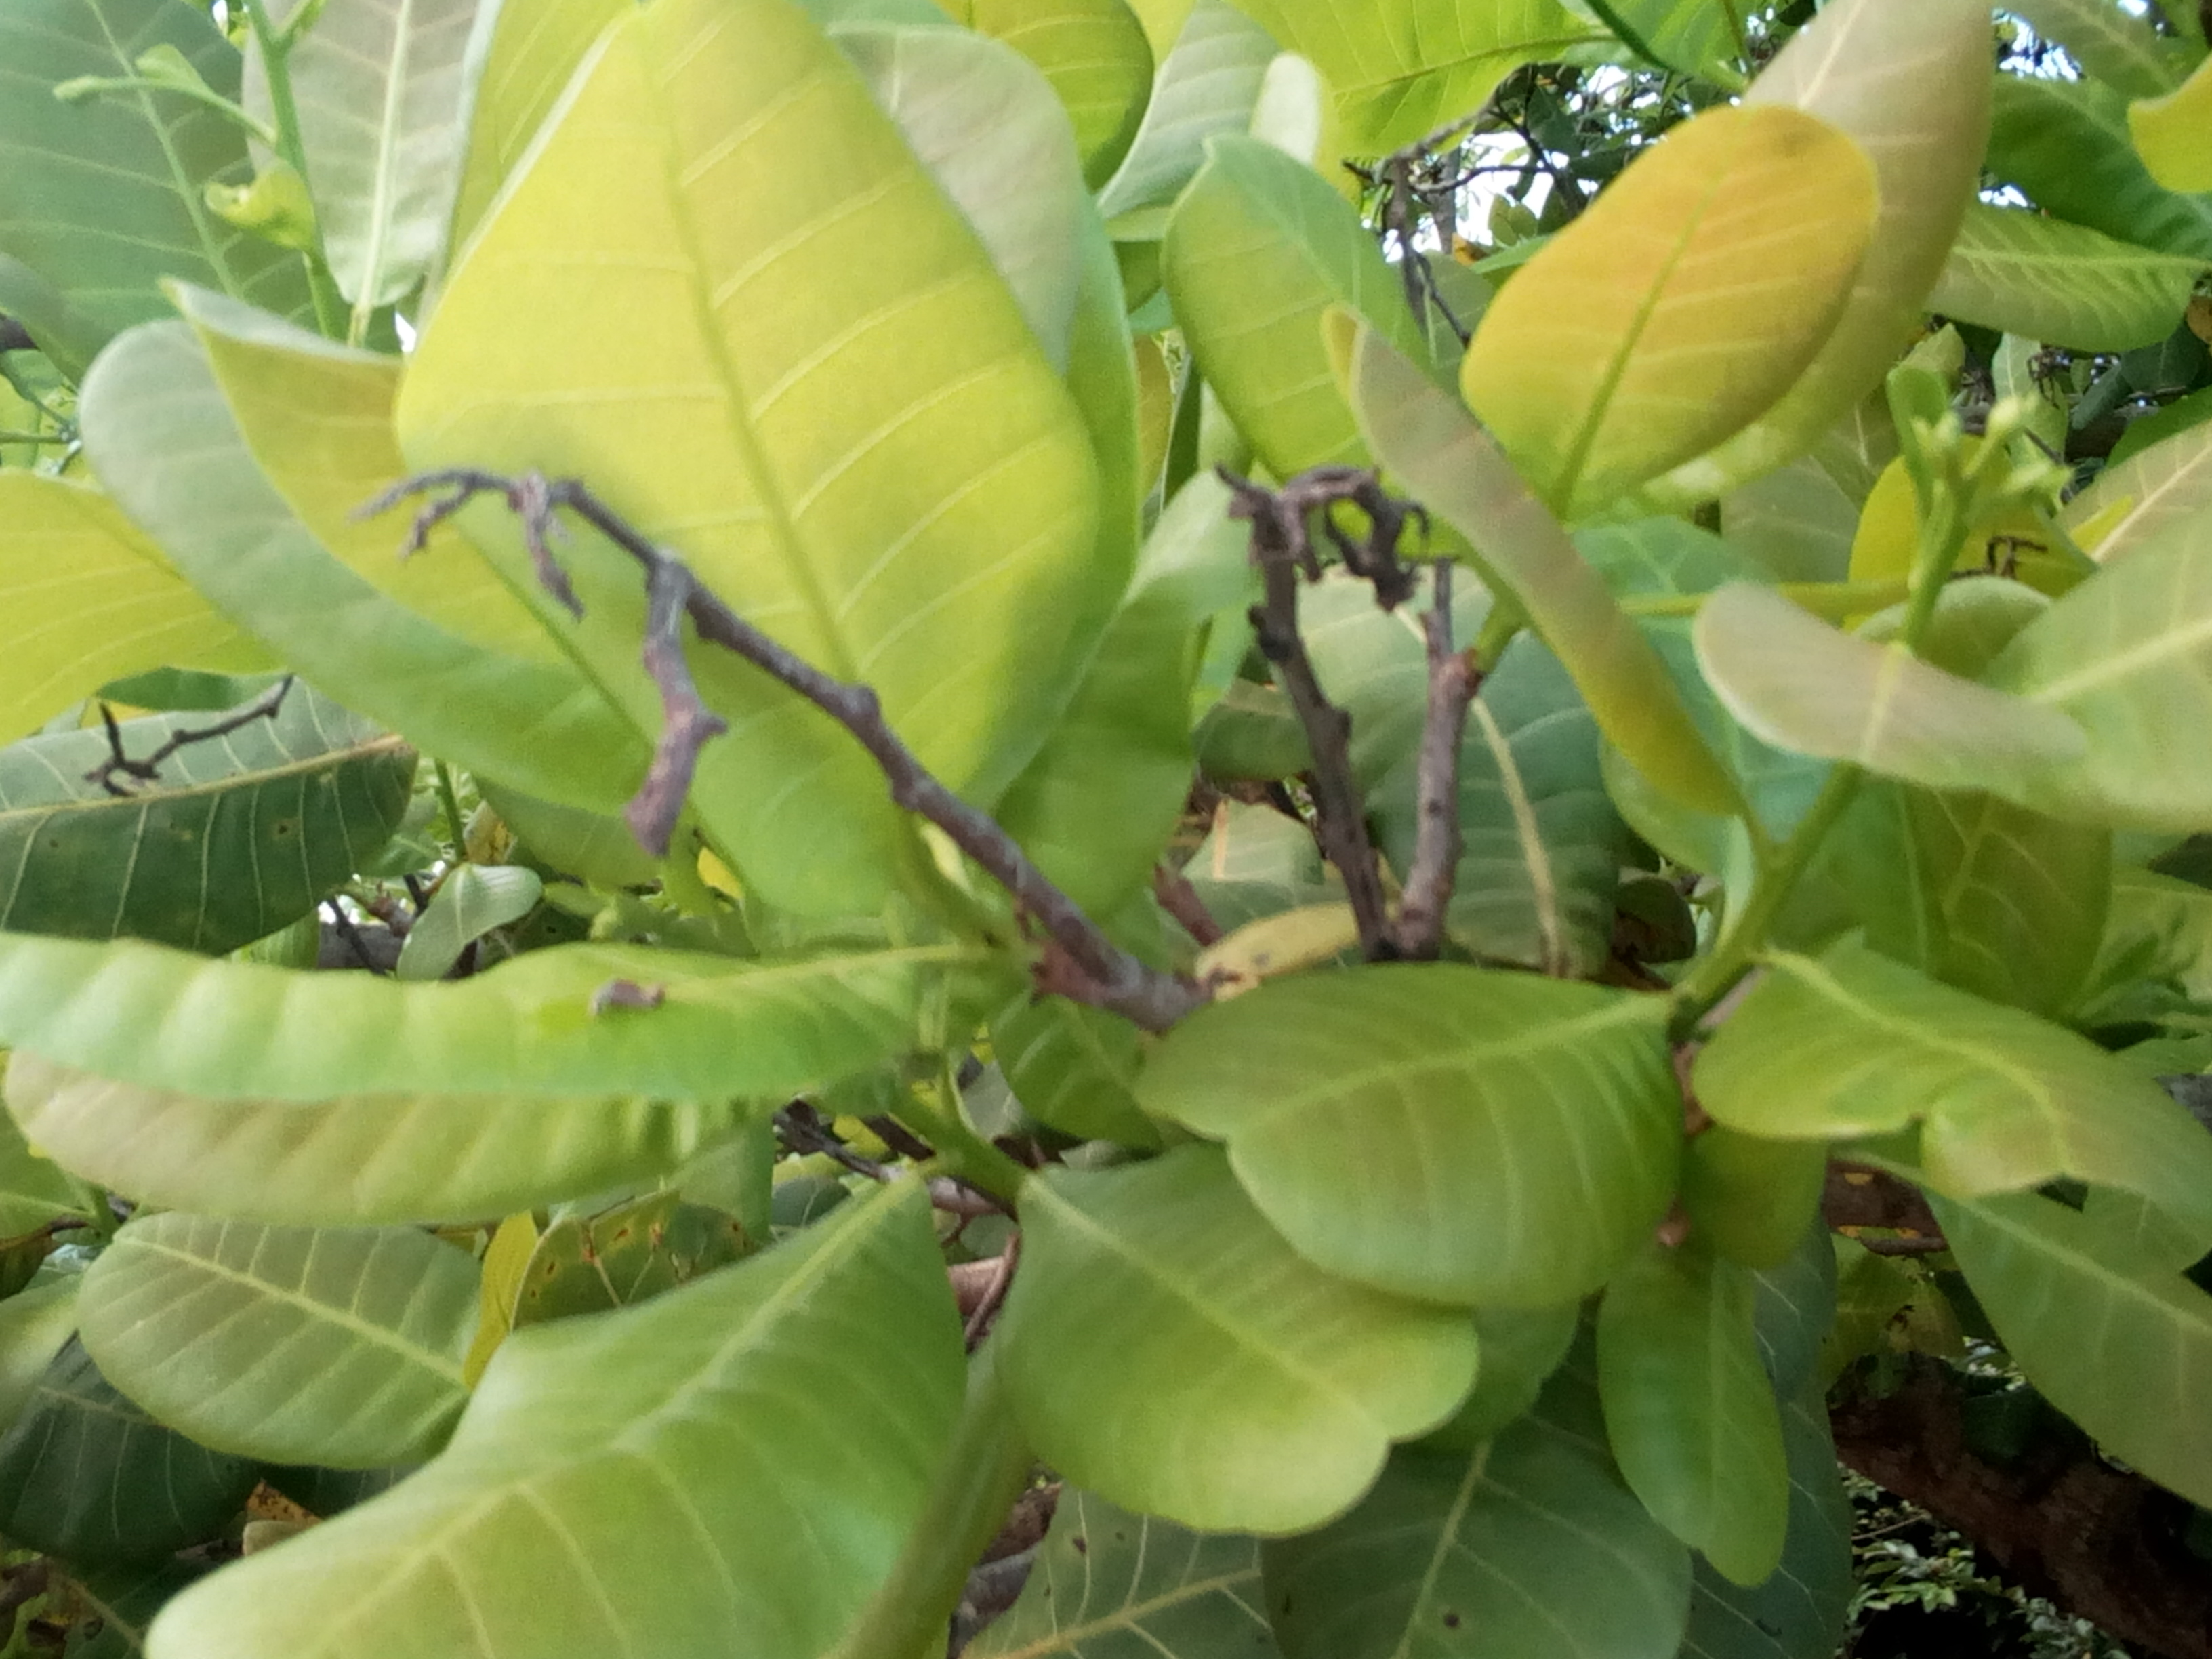Dessèchement des bourgeons: (361, 476, 730, 845), (1209, 460, 1430, 779)
